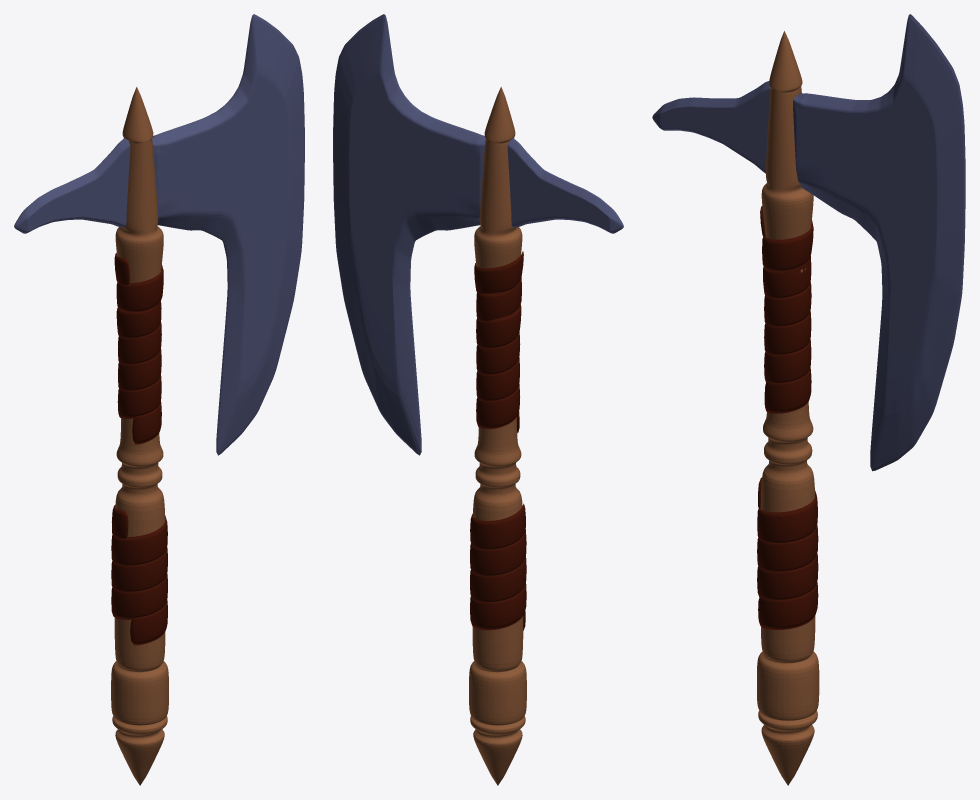
The model's file is BattleAxe.fbx.
The picture shows the model from 3 angles, left to right: view 1: azimuth 30°, elevation 25°; view 2: azimuth 150°, elevation 25°; view 3: azimuth 330°, elevation 25°; orthographic projection. The views are drawn at different scales.
Parts seen in each view (by area): view 1: Blade, Handle, Cube.001, Cube; view 2: Blade, Handle, Cube.001, Cube; view 3: Blade, Handle, Cube.001, Cube.
Boxes of the visible parts, x1=… form: Blade: x1=14, y1=14, x2=304, y2=455; Handle: x1=111, y1=87, x2=168, y2=785; Cube.001: x1=114, y1=253, x2=163, y2=444; Cube: x1=111, y1=504, x2=167, y2=645; Blade: x1=333, y1=14, x2=623, y2=455; Handle: x1=469, y1=87, x2=526, y2=785; Cube.001: x1=474, y1=251, x2=523, y2=432; Cube: x1=470, y1=503, x2=526, y2=630; Blade: x1=652, y1=14, x2=965, y2=471; Handle: x1=757, y1=31, x2=819, y2=785; Cube.001: x1=760, y1=206, x2=813, y2=413; Cube: x1=757, y1=477, x2=818, y2=629.
Size of the model in its own units: 25.94 by 63.44 by 4.48.
